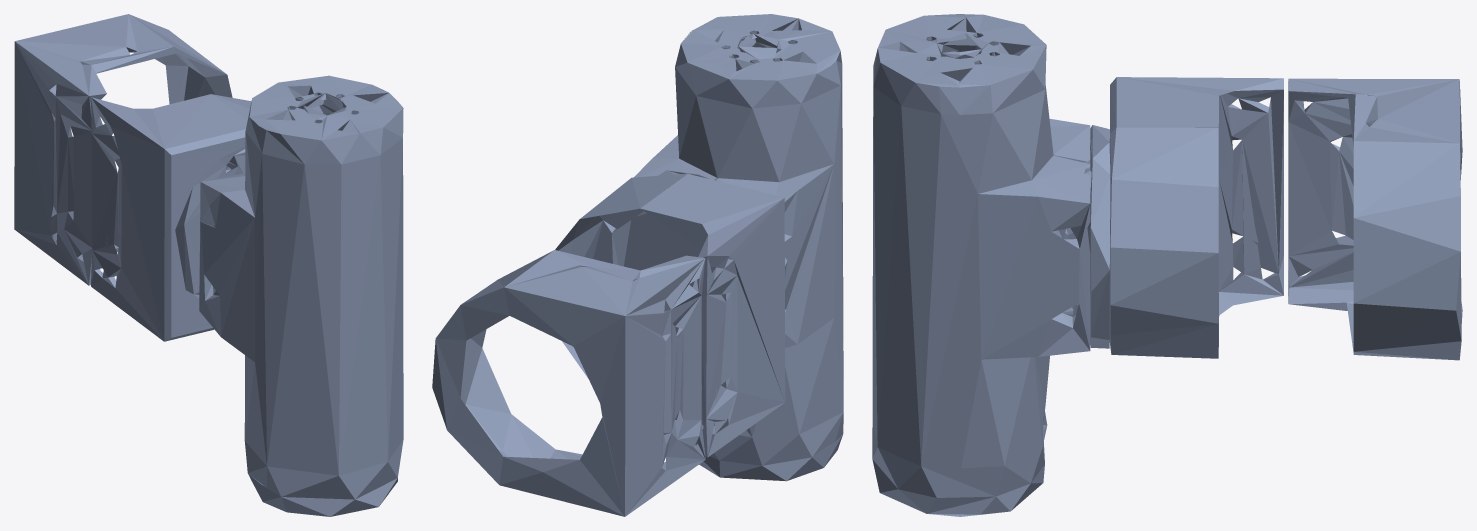
File: r_shoulder_abduction.dae
The picture shows the model from 3 angles, left to right: view 1: azimuth 30°, elevation 25°; view 2: azimuth 150°, elevation 25°; view 3: azimuth 270°, elevation 25°; orthographic projection. The views are drawn at different scales.
Visible parts, largest first — view 1: M2R; view 2: M2R; view 3: M2R.
Boxes of the visible parts, x1,y1,x2,y2 form: M2R: (14, 14, 403, 516); M2R: (432, 14, 843, 516); M2R: (872, 14, 1462, 516).
Bounding box in the file's own units: 0.0559 × 0.1356 × 0.1118.
